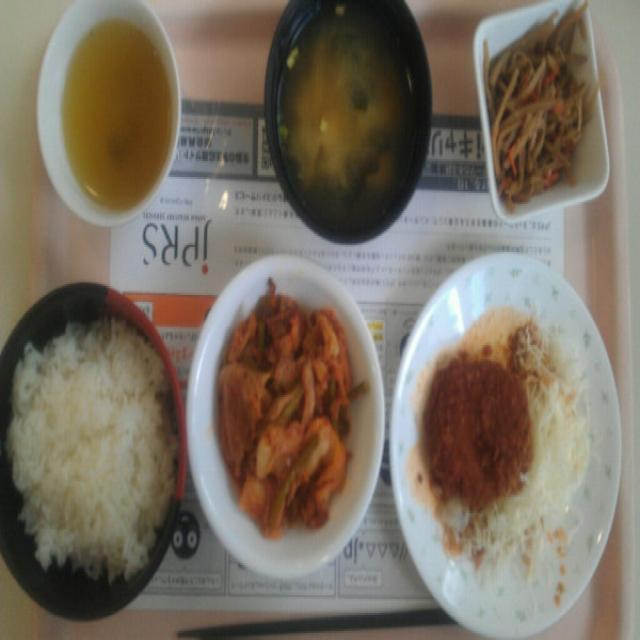Rice: (8, 311, 172, 568)
